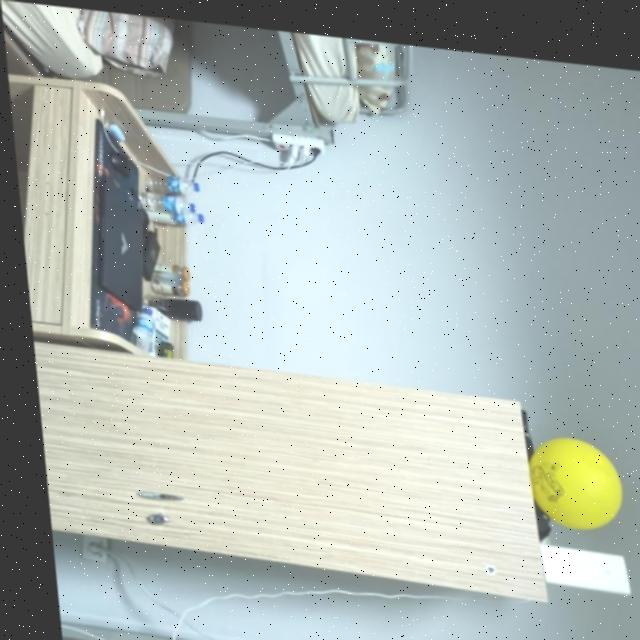balloon: (515, 420, 618, 526)
